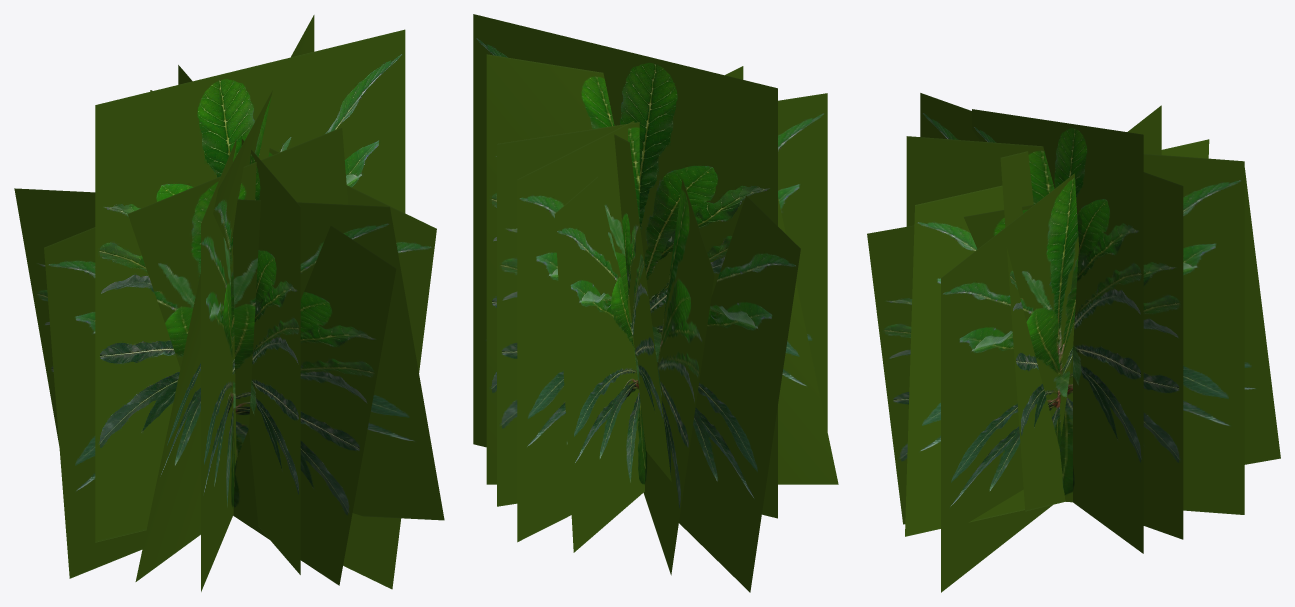
File: gs_bush09.glb
3 renders of one model, left to right at view 1: azimuth 30°, elevation 25°; view 2: azimuth 150°, elevation 25°; view 3: azimuth 270°, elevation 25°, orthographic. The views are drawn at different scales.
Visible parts, largest first — view 1: Plane01; view 2: Plane01; view 3: Plane01.
Part boxes in pixels (x1=…): Plane01: x1=14, y1=15, x2=444, y2=591; Plane01: x1=473, y1=14, x2=838, y2=592; Plane01: x1=867, y1=93, x2=1280, y2=592.
Bounding box in the file's own units: 101 × 137 × 109.
Materials: 1 (1 with a texture image).
